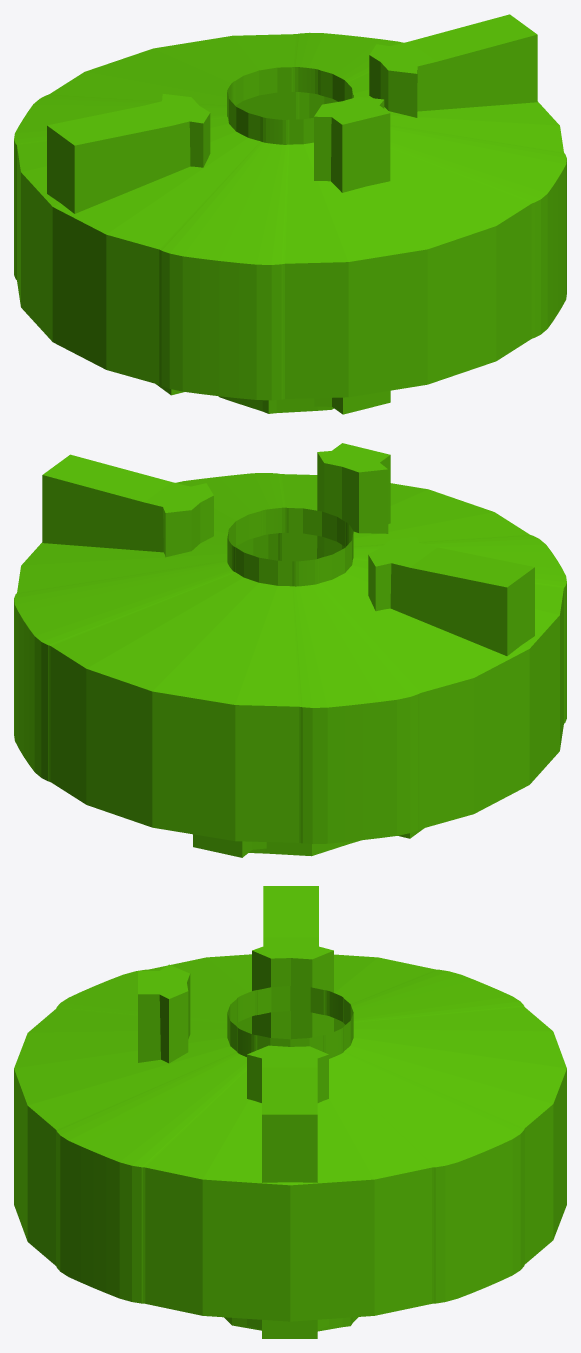
Rendered from Arena_BlockOut6.fbx.
3 renders of one model, top to bottom at view 1: azimuth 30°, elevation 25°; view 2: azimuth 150°, elevation 25°; view 3: azimuth 270°, elevation 25°, orthographic.
Parts seen in each view (by area): view 1: Arena_Base, Column_Base9; view 2: Arena_Base, Column_Base9, polySurface1; view 3: Arena_Base, Column_Base9.
Boxes of the visible parts, left/top/right/bottom form: Arena_Base: left=14, top=32, right=566, bottom=413; Column_Base9: left=47, top=14, right=537, bottom=414; Arena_Base: left=14, top=473, right=566, bottom=856; Column_Base9: left=42, top=443, right=534, bottom=838; polySurface1: left=193, top=834, right=266, bottom=857; Arena_Base: left=14, top=954, right=566, bottom=1331; Column_Base9: left=138, top=886, right=333, bottom=1338.
Size of the model in its own units: 54279 by 34455 by 54279.
